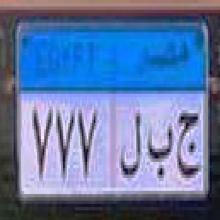7: (76, 104, 99, 186), (31, 102, 53, 177), (56, 104, 76, 182)
baa: (146, 125, 174, 181)
jeem: (175, 107, 201, 188)
laam: (120, 106, 142, 182)
